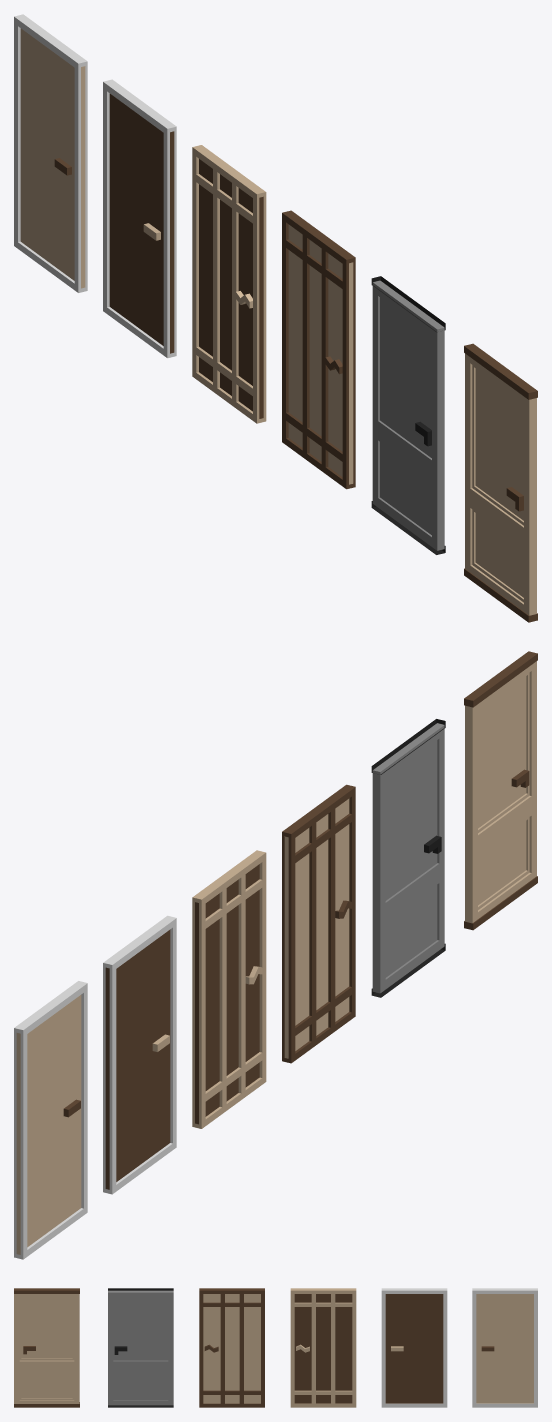
Rendered from doors.fbx.
3 renders of one model, top to bottom at view 1: azimuth 30°, elevation 25°; view 2: azimuth 150°, elevation 25°; view 3: azimuth 270°, elevation 25°, orthographic. The views are drawn at different scales.
Visible parts, largest first — view 1: Куб.218, Куб.220, Куб.203, Куб.207, Куб.223, Куб.226; view 2: Куб.218, Куб.220, Куб.203, Куб.207, Куб.223, Куб.226; view 3: Куб.207, Куб.218, Куб.203, Куб.220, Куб.223, Куб.226.
Boxes of the visible parts, x1,y1,x2,y2 form: Куб.218: (192, 145, 266, 423); Куб.220: (282, 210, 355, 489); Куб.203: (14, 14, 87, 292); Куб.207: (103, 79, 176, 358); Куб.223: (371, 276, 445, 554); Куб.226: (464, 343, 537, 622); Куб.218: (192, 850, 266, 1128); Куб.220: (282, 784, 355, 1063); Куб.203: (14, 981, 87, 1259); Куб.207: (103, 915, 176, 1194); Куб.223: (371, 719, 445, 997); Куб.226: (464, 651, 537, 930); Куб.207: (381, 1288, 447, 1407); Куб.218: (290, 1288, 356, 1407); Куб.203: (472, 1288, 537, 1407); Куб.220: (199, 1288, 264, 1407); Куб.223: (108, 1288, 173, 1407); Куб.226: (14, 1288, 79, 1407).
Bounding box in the file's own units: 1.55 × 24.45 × 99.4.
